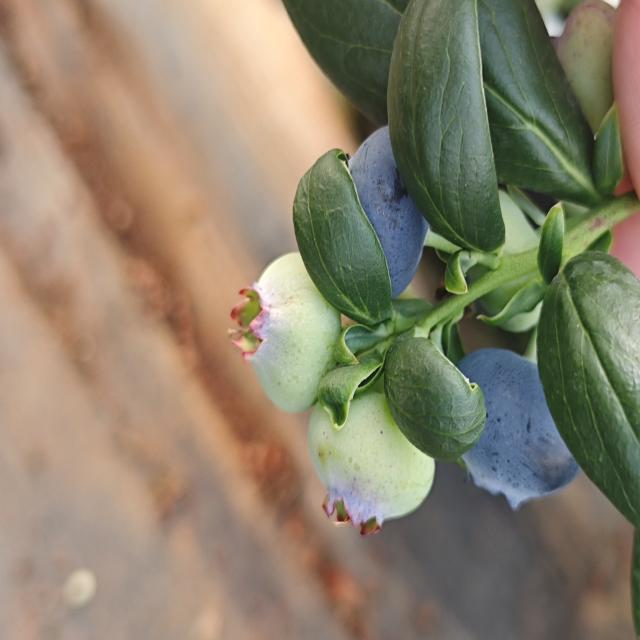ripe: (454, 341, 587, 508), (345, 121, 436, 300)
